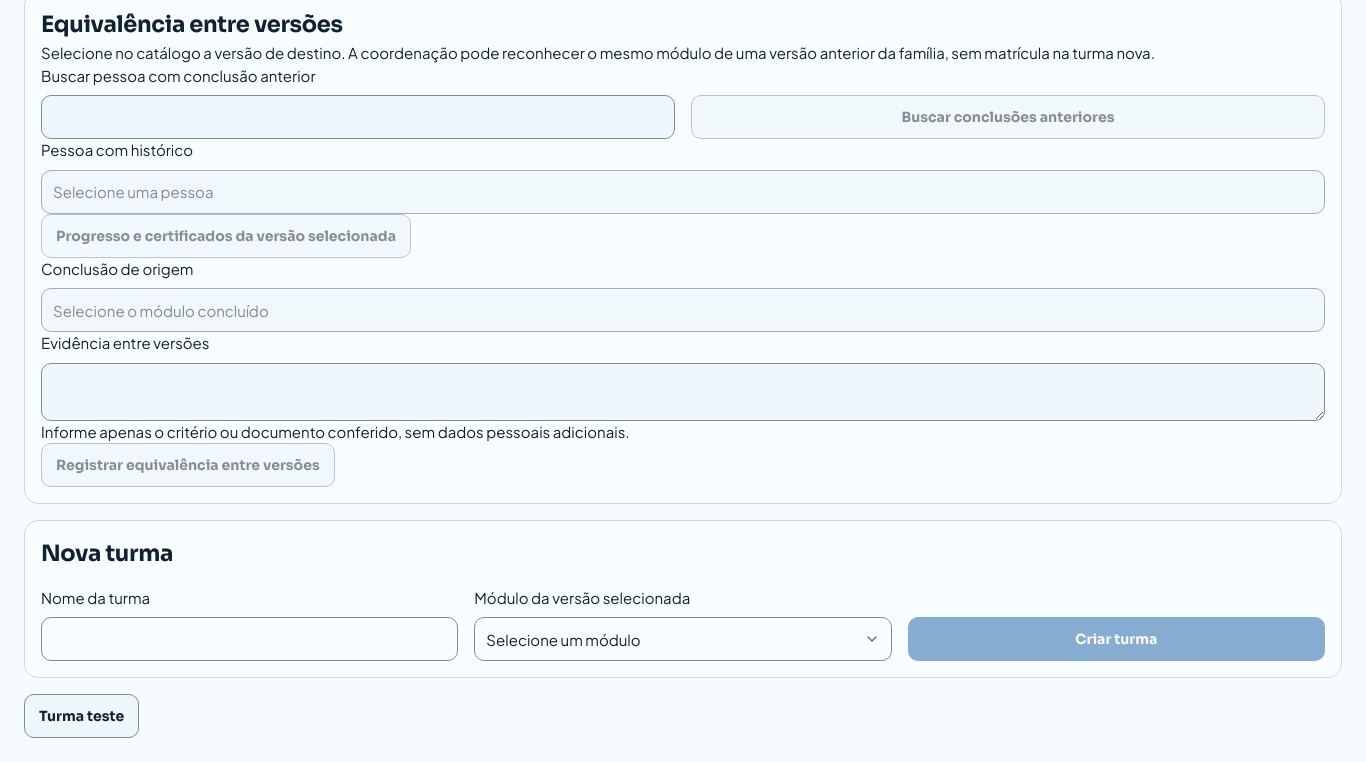
Test: turma encerrada mantém consulta e permite reabertura só à coordenação
(page scrolled)
Click the button "Turma teste": (82,716) x1=24 y1=694 x2=139 y2=738
(page scrolled)
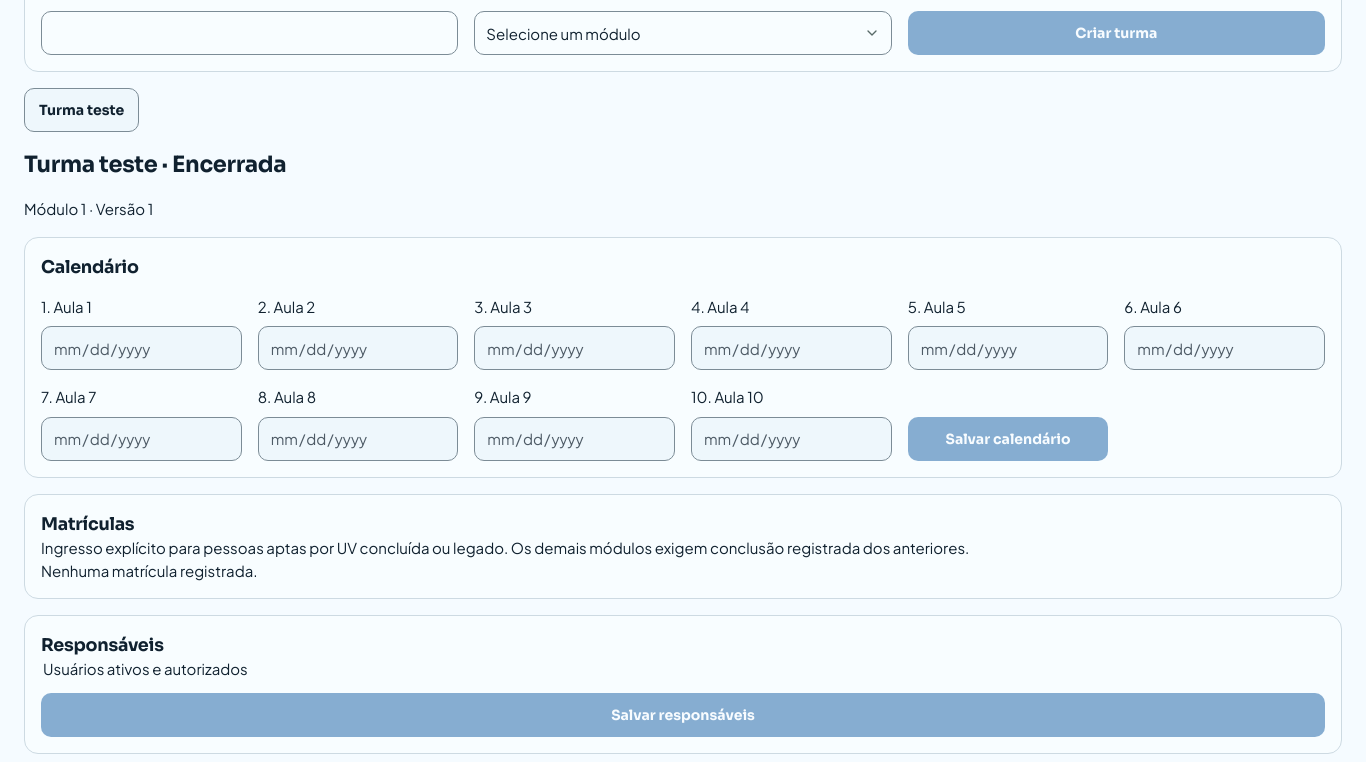
Expected: the element that starts with "Aula 1" is disabled, x1=41 y1=296 x2=1325 y2=461
